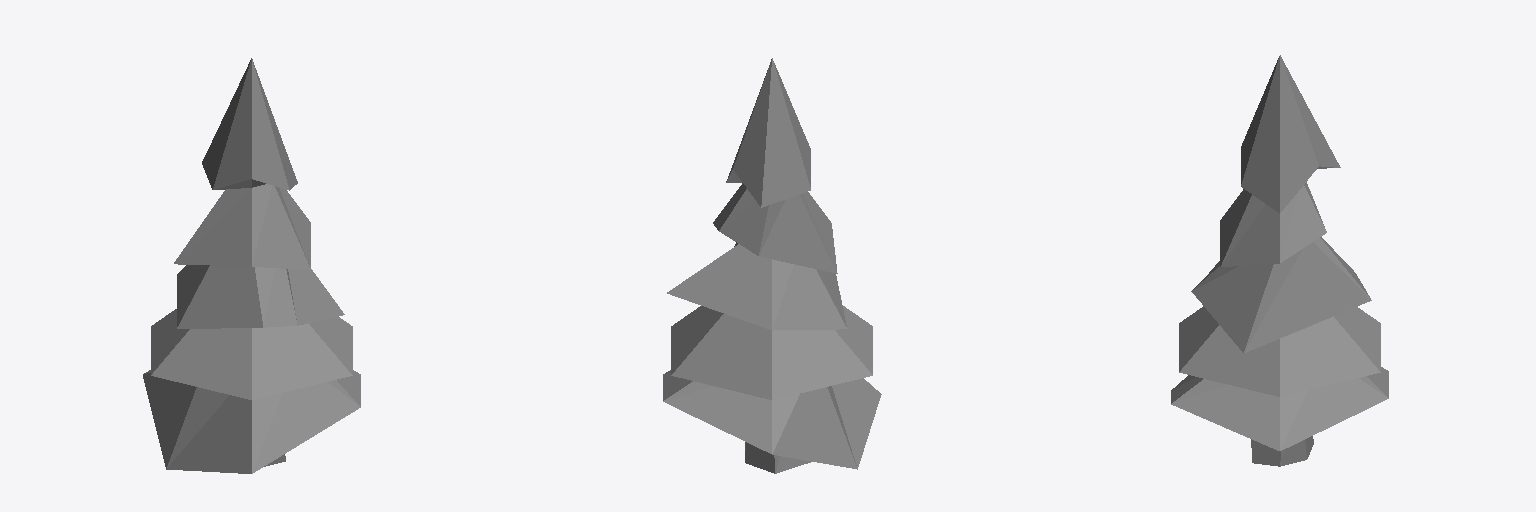
Rendered from sapin_unwrap.obj.
The picture shows the model from 3 angles: view 1: azimuth 30°, elevation 25°; view 2: azimuth 150°, elevation 25°; view 3: azimuth 270°, elevation 25°; orthographic projection.
Parts seen in each view (by area): view 1: CL_Sapin1_SeamsColor; view 2: CL_Sapin1_SeamsColor; view 3: CL_Sapin1_SeamsColor.
Boxes of the visible parts, x1=… form: CL_Sapin1_SeamsColor: x1=143, y1=58, x2=360, y2=473; CL_Sapin1_SeamsColor: x1=663, y1=58, x2=881, y2=473; CL_Sapin1_SeamsColor: x1=1171, y1=55, x2=1388, y2=466.
Size of the model in its own units: 39.8 by 72.11 by 35.85.